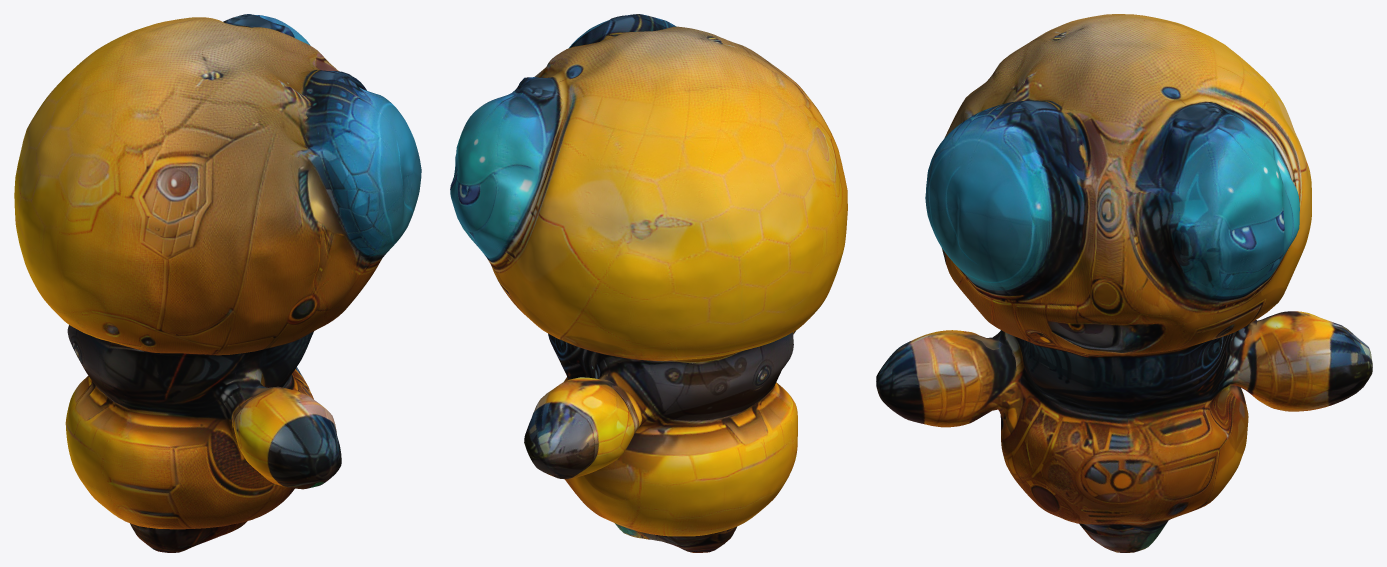
File: bee-vetgo.glb
The picture shows the model from 3 angles, left to right: view 1: azimuth 30°, elevation 25°; view 2: azimuth 150°, elevation 25°; view 3: azimuth 270°, elevation 25°; orthographic projection. The views are drawn at different scales.
Bounding box in the file's own units: 0.8241 × 1.2 × 1.06.
Materials: 1 (1 with a texture image).
